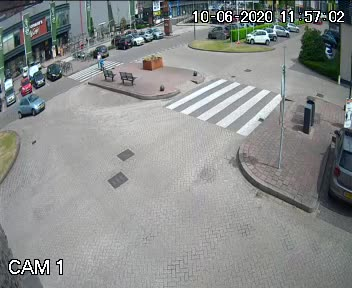car: (15, 94, 49, 115)
